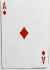ace: (1, 1, 48, 68)
